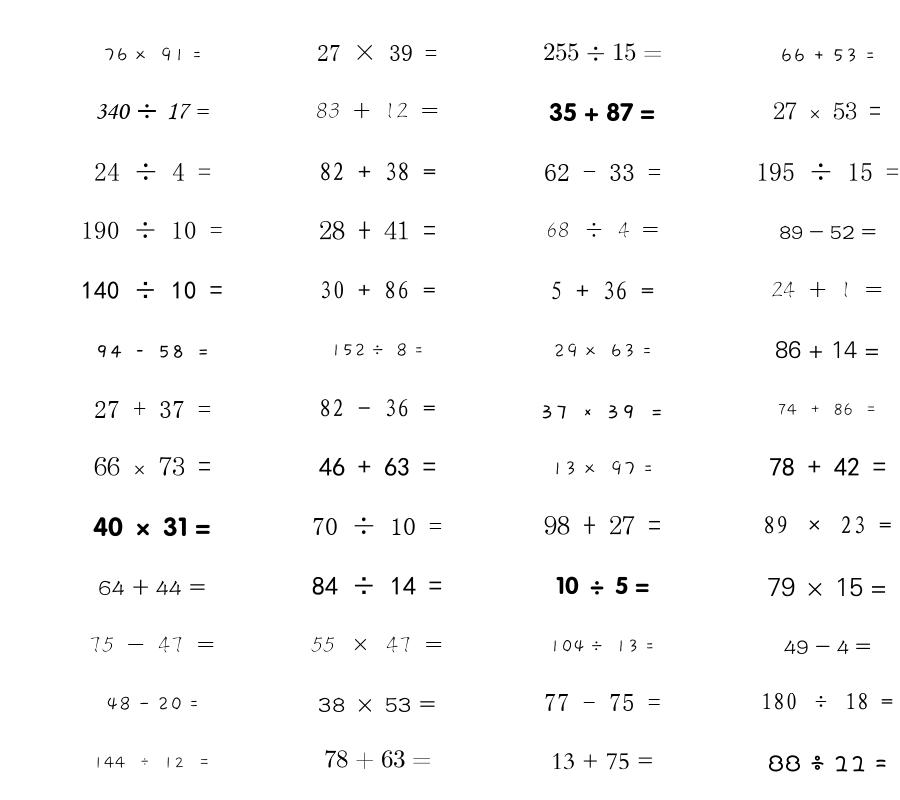MQ: (756, 162, 899, 181), (81, 281, 223, 300), (81, 221, 223, 239), (312, 576, 442, 595), (767, 577, 887, 597), (761, 692, 893, 710), (93, 517, 211, 537), (319, 220, 436, 240), (312, 517, 442, 535), (544, 515, 661, 535), (763, 516, 892, 534), (311, 636, 443, 653), (319, 162, 436, 181), (94, 457, 211, 476), (319, 457, 436, 476), (769, 457, 886, 476), (543, 43, 662, 61), (89, 636, 215, 653), (324, 750, 431, 770), (549, 102, 655, 122), (94, 163, 211, 181), (319, 281, 436, 299), (319, 399, 436, 417), (316, 102, 439, 119), (317, 44, 437, 61), (768, 755, 887, 772), (775, 340, 880, 359), (544, 164, 661, 181), (94, 401, 211, 418), (544, 694, 661, 711), (550, 281, 654, 300), (773, 102, 881, 120), (95, 103, 209, 120), (771, 281, 883, 298), (98, 579, 206, 596), (546, 222, 659, 238), (318, 697, 436, 712), (556, 576, 649, 595), (551, 753, 654, 770), (540, 405, 664, 419), (551, 460, 653, 476), (93, 756, 211, 769), (95, 345, 210, 358), (103, 47, 202, 62), (553, 343, 652, 358), (549, 639, 655, 653), (780, 48, 875, 63), (106, 696, 199, 711), (779, 225, 876, 239), (330, 343, 424, 357), (784, 640, 871, 655), (777, 403, 877, 416)
